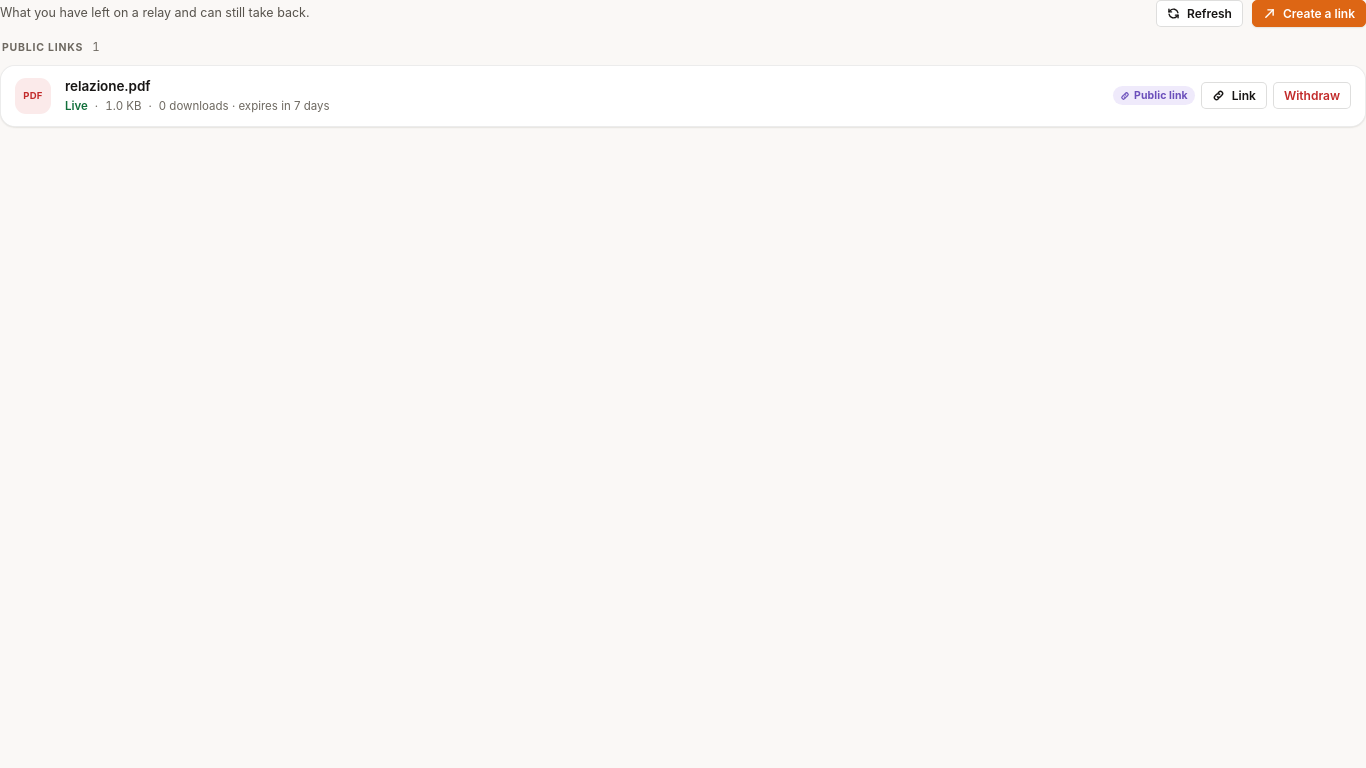
Test case: the panel › 148. Withdraw asks first — it is irreversible and breaks the URL for everyone
This screenshot has width=1366, height=768.
Click the button "Withdraw". click: (1312, 96)
box: [1273, 82, 1351, 109]
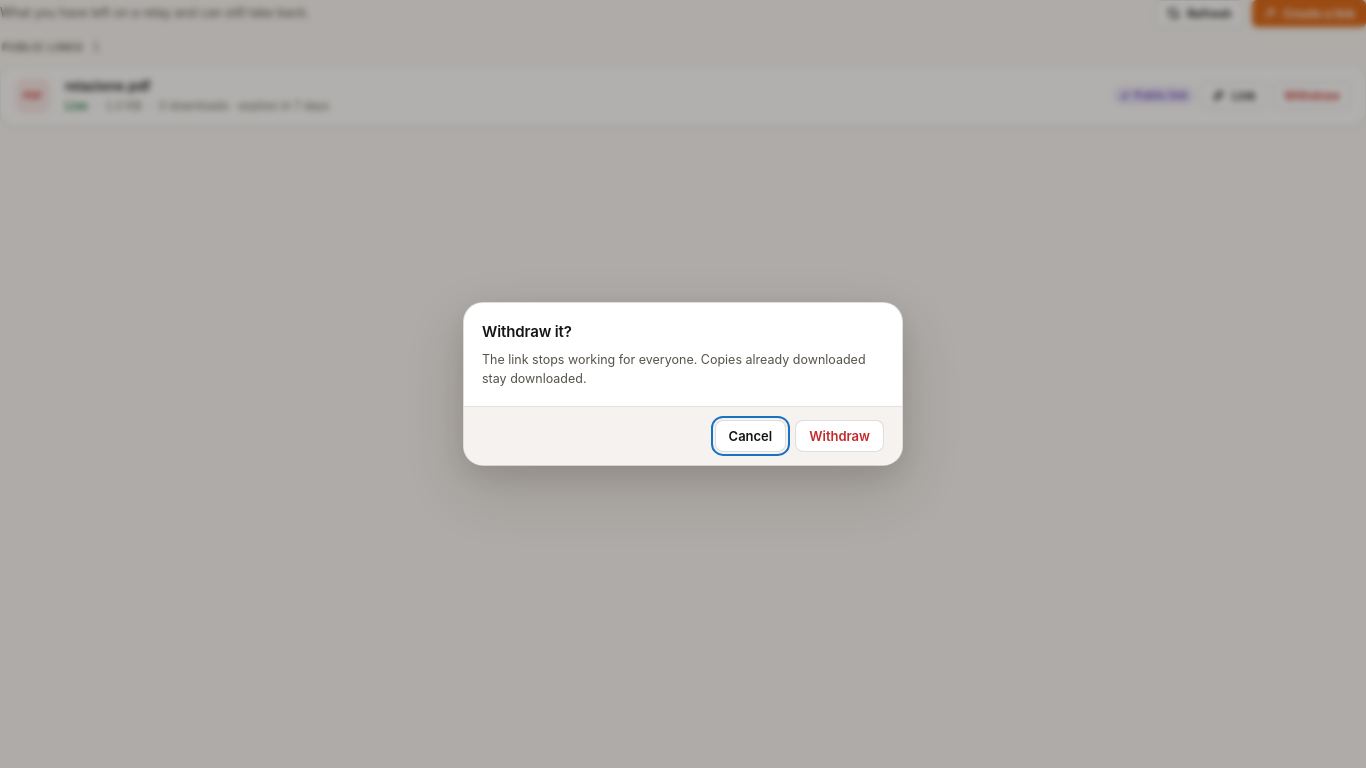
Now the button "Withdraw" is shown, box [795, 420, 884, 452]
